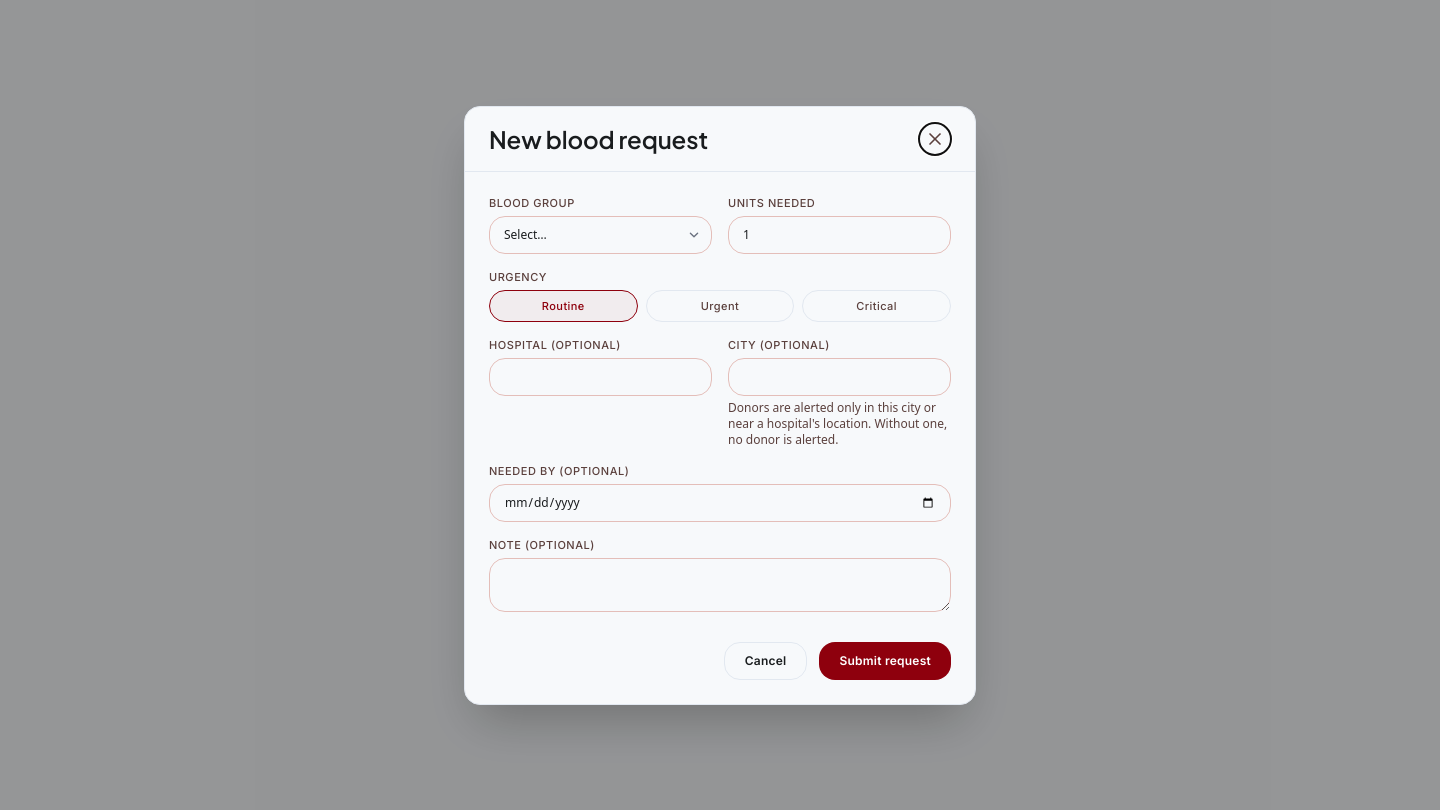
BloodRequestModal › keeps a network failure distinguishable from a successful creation
Select "O-" in the dropdown labelled "Blood group" at {"x": 600, "y": 234}, box [489, 216, 712, 254]
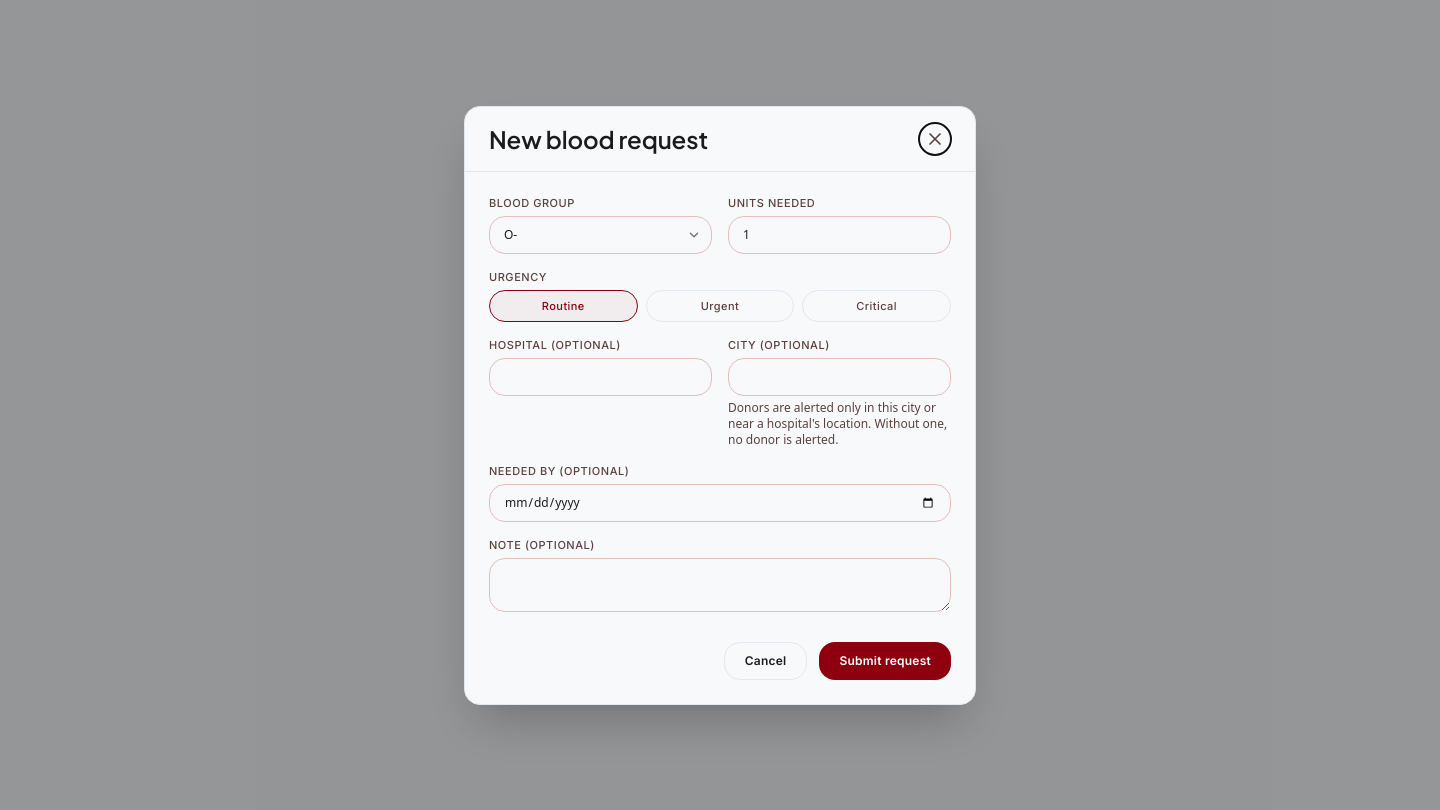
Click the button "Submit request".
click(885, 660)  # box [819, 642, 951, 680]
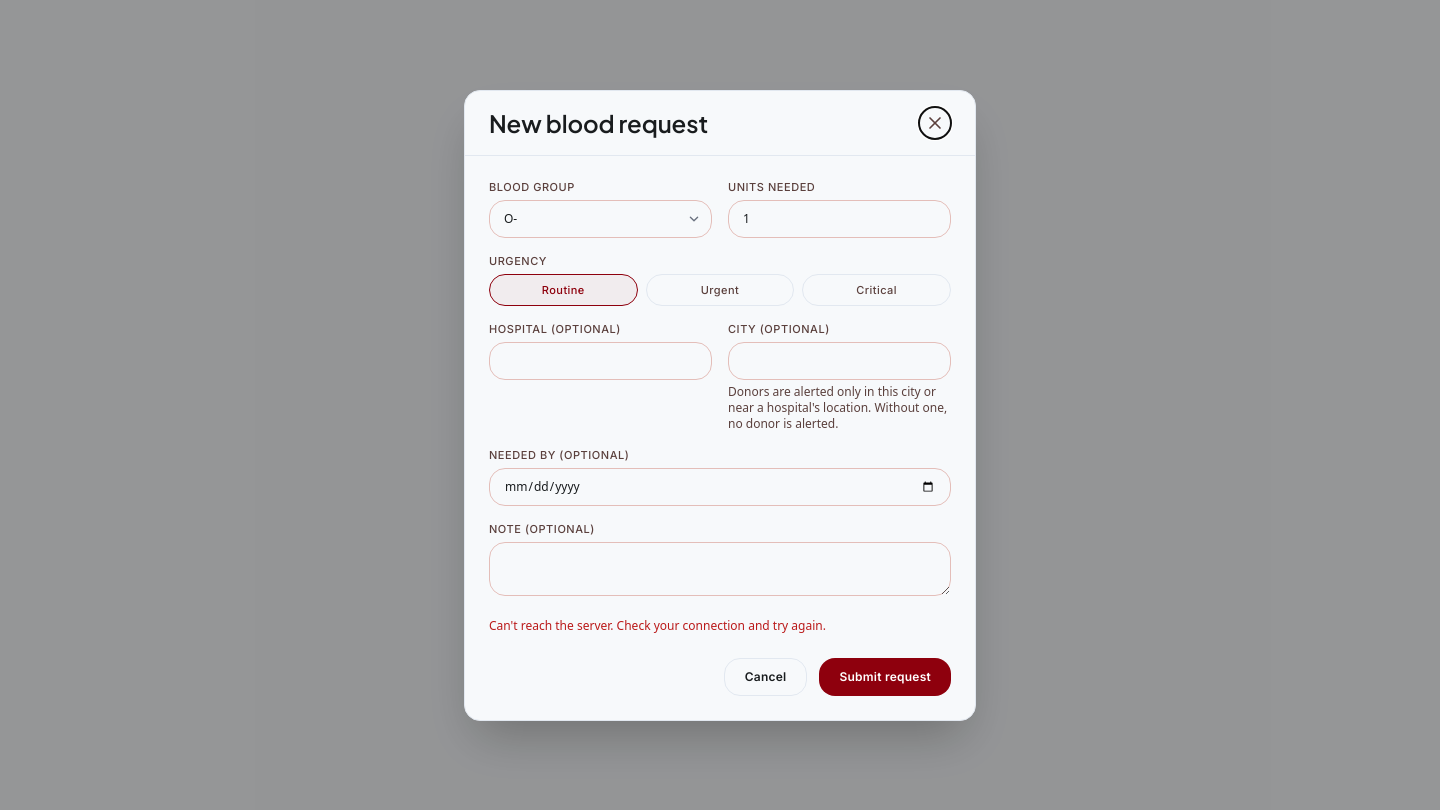
Expected: the text "Can't reach the server. Check your connection and try again." is shown, [489, 616, 826, 634]
